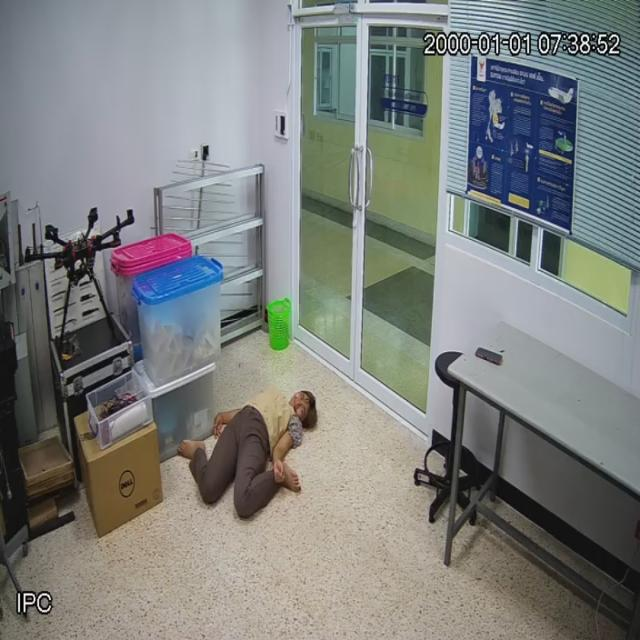fall: (180, 390, 317, 518)
